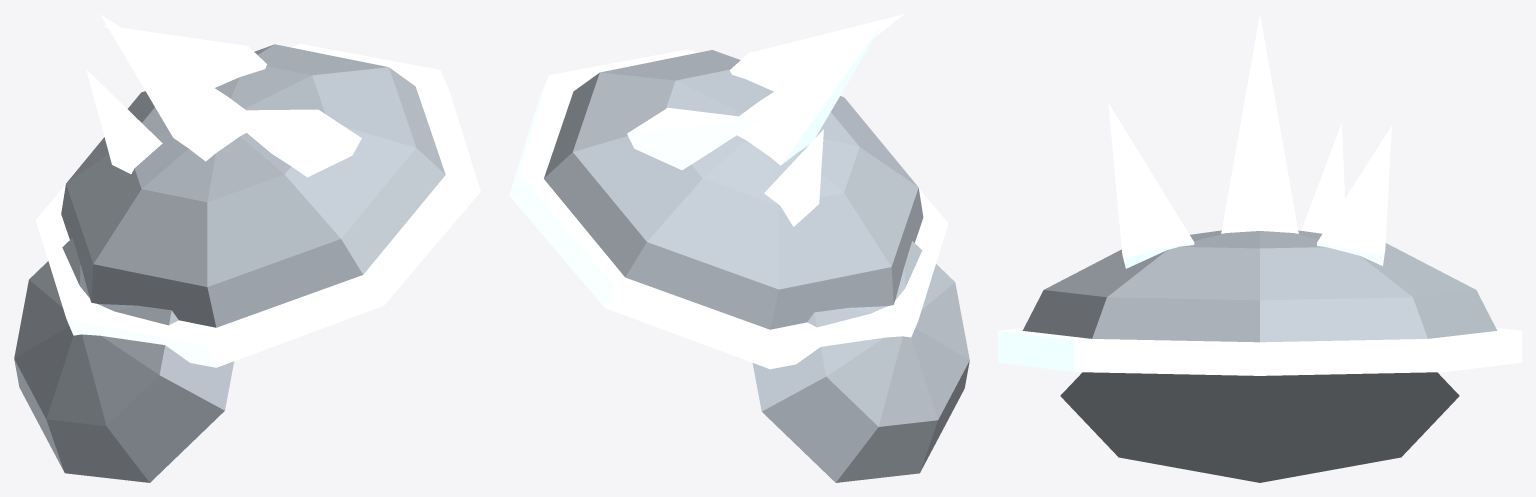
File: Armor_Ice_Pauldron_R.fbx
3 renders of one model, left to right at view 1: azimuth 30°, elevation 25°; view 2: azimuth 150°, elevation 25°; view 3: azimuth 270°, elevation 25°, orthographic. The views are drawn at different scales.
Visible parts, largest first — view 1: Armor_Ice_Pauldron_R; view 2: Armor_Ice_Pauldron_R; view 3: Armor_Ice_Pauldron_R.
Part boxes in pixels (x1=…): Armor_Ice_Pauldron_R: x1=14, y1=14, x2=480, y2=482; Armor_Ice_Pauldron_R: x1=509, y1=14, x2=969, y2=482; Armor_Ice_Pauldron_R: x1=998, y1=15, x2=1521, y2=482.
Size of the model in its own units: 0.2523 by 0.2692 by 0.2621.
